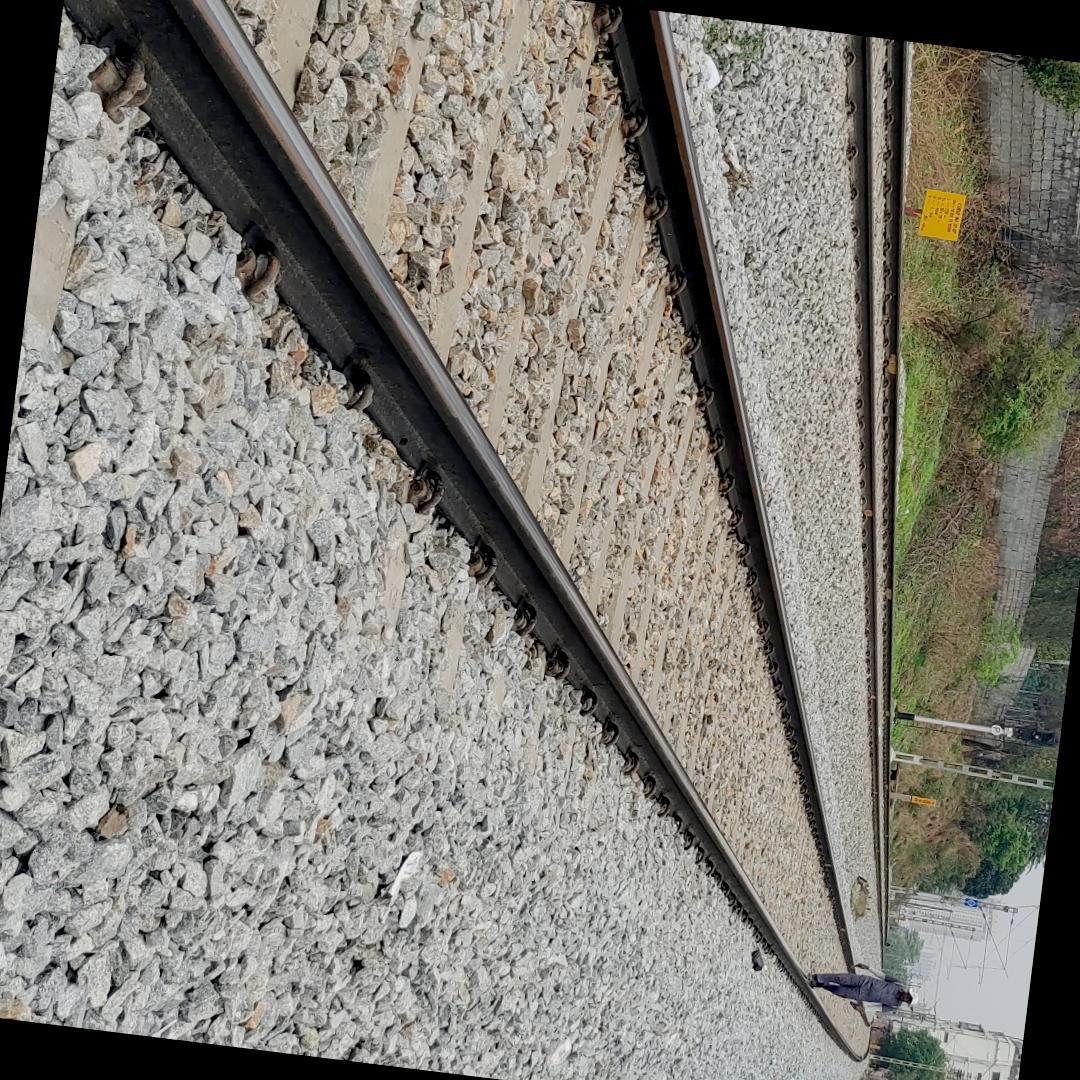standing: (794, 947, 914, 1027)
track: (52, 0, 883, 1080)
